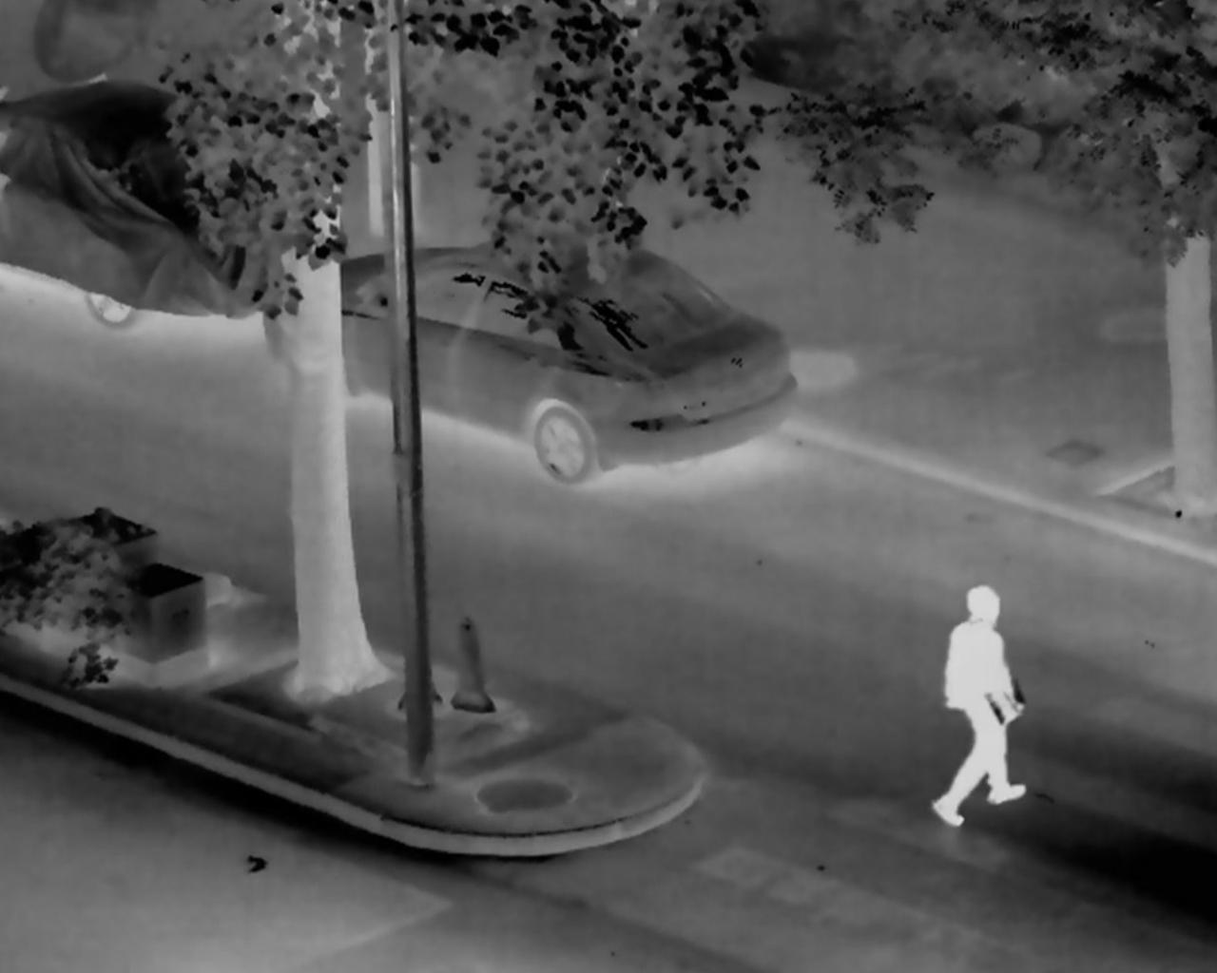person: (936, 585, 1027, 826)
